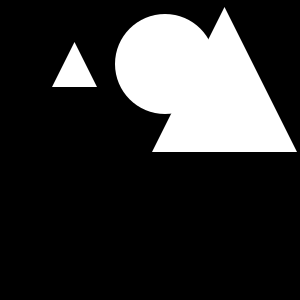rectangle: (115, 14, 215, 114)
triangle: (152, 7, 297, 152), (52, 42, 97, 87)
